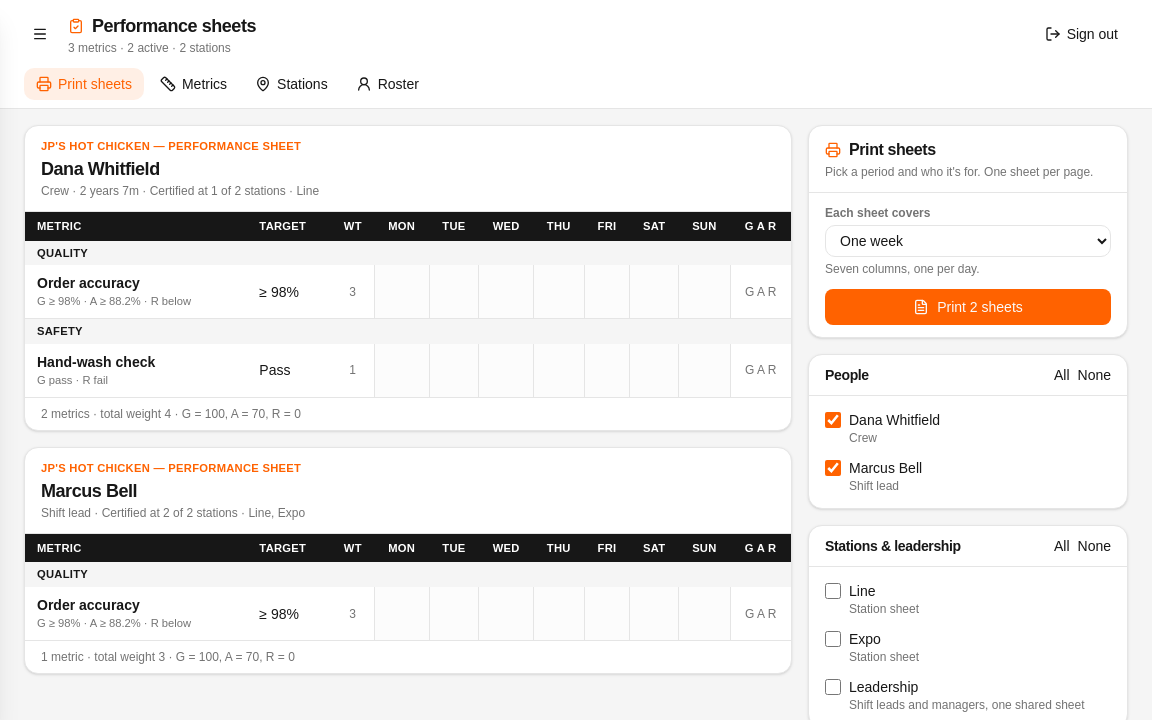
Test case: the metric library › shows what each metric is and who it prints for
Click the button "Metrics" at (193, 84), box [148,68,239,100]
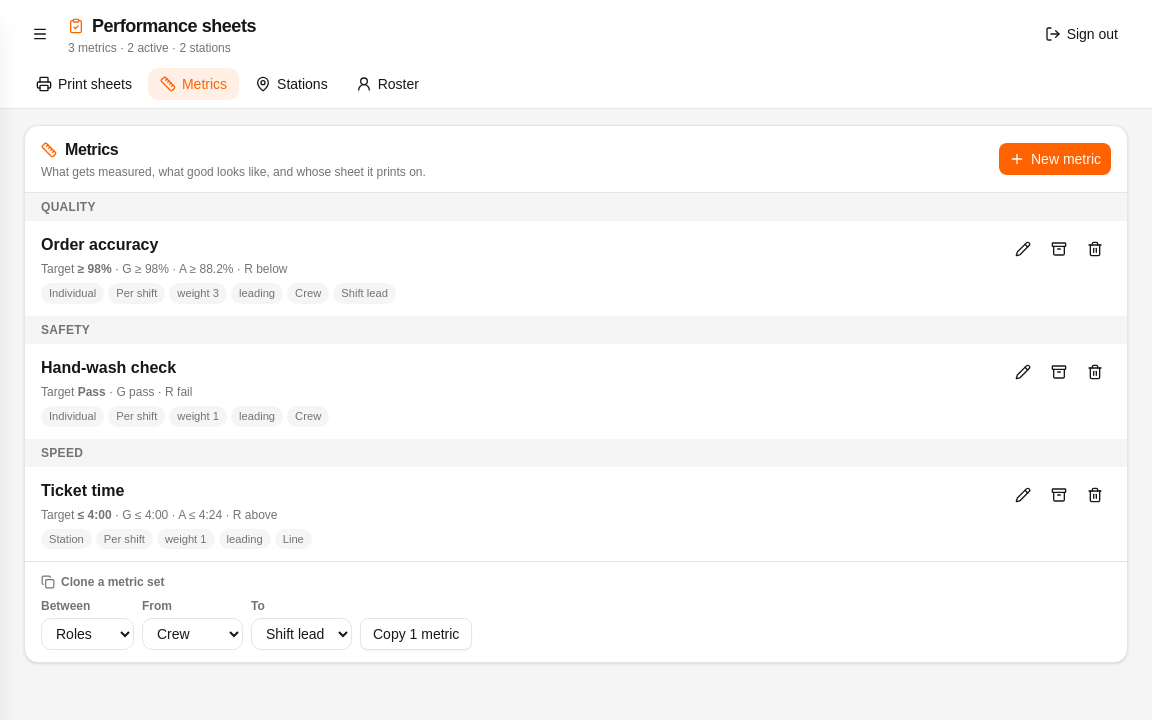
Expected: the text "Crew" next to "Shift lead" is shown, [295,287,321,299]
Expected: the text "Target ≥ 98% · G ≥ 98% · A ≥ 88.2% · R below" is shown, [41,262,288,276]
